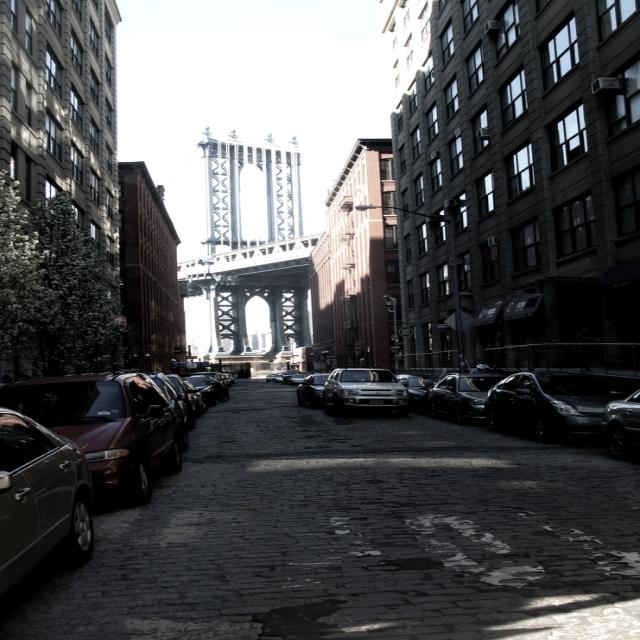car: (321, 367, 407, 417)
